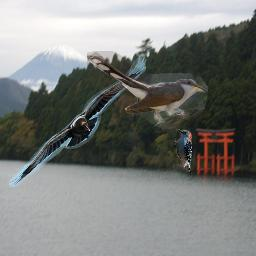Crow: (6, 55, 148, 188)
Cuckoo: (87, 51, 208, 129)
Woodpecker: (173, 128, 192, 176)
